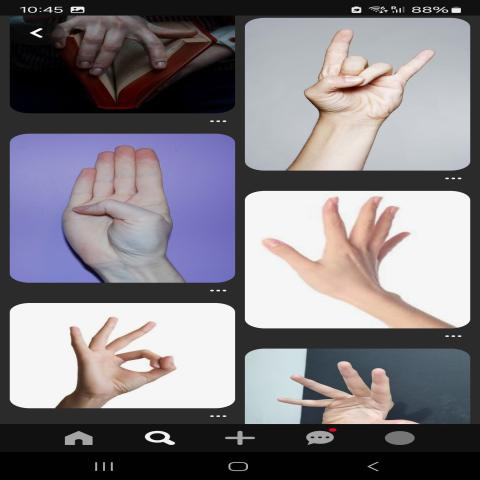hands: (249, 195, 440, 307), (280, 23, 450, 148), (49, 136, 196, 273), (49, 314, 202, 405)
